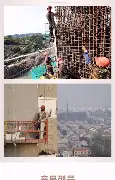safety belt: (35, 112, 47, 126), (48, 15, 56, 27)
